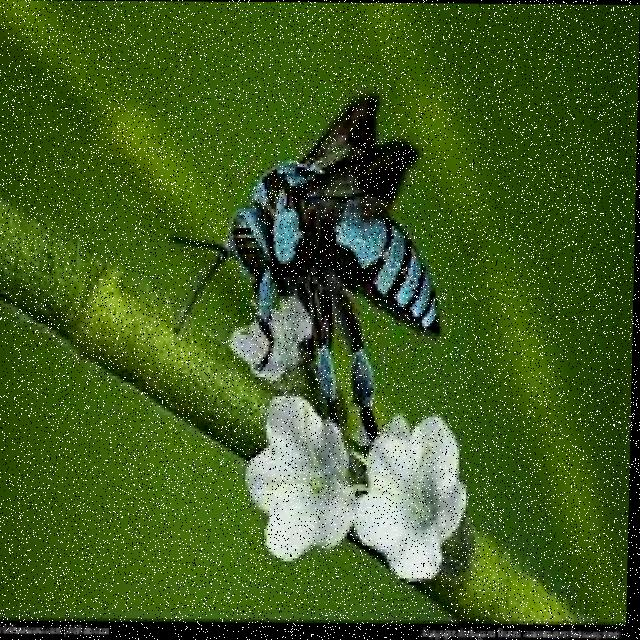Thyreus: (185, 91, 461, 440)
